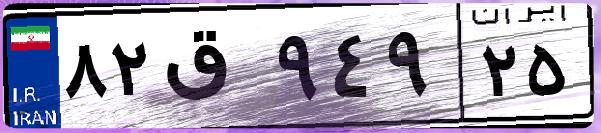2: (475, 38, 525, 113), (110, 28, 158, 98)
4: (330, 28, 385, 110)
5: (525, 38, 570, 115)
8: (57, 26, 110, 100)
9: (270, 28, 330, 110), (385, 28, 445, 110)
ق: (158, 20, 270, 120)
